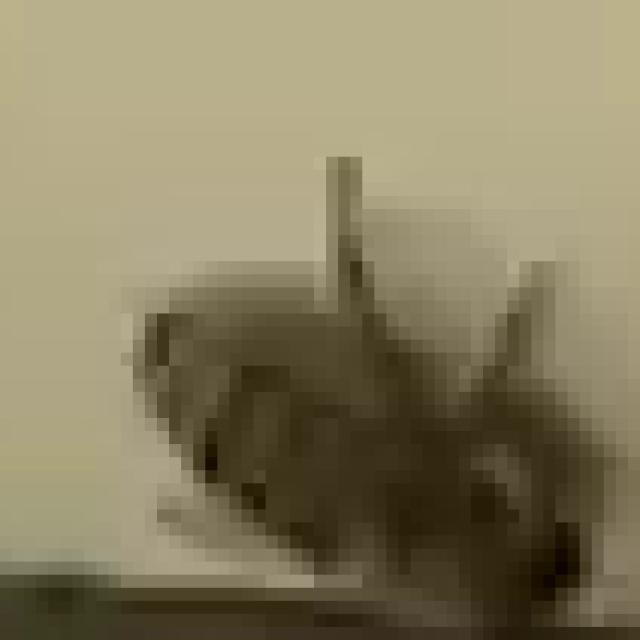honeybee: (130, 193, 605, 640)
